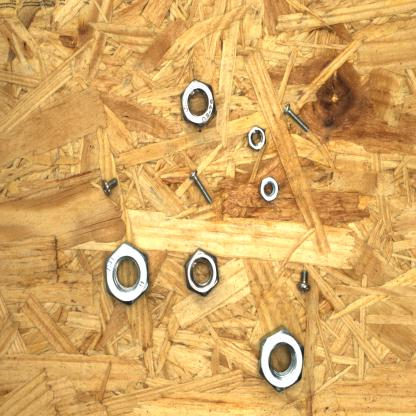screw: (187, 166, 215, 206), (280, 101, 312, 135), (292, 264, 314, 298), (100, 175, 122, 199)
